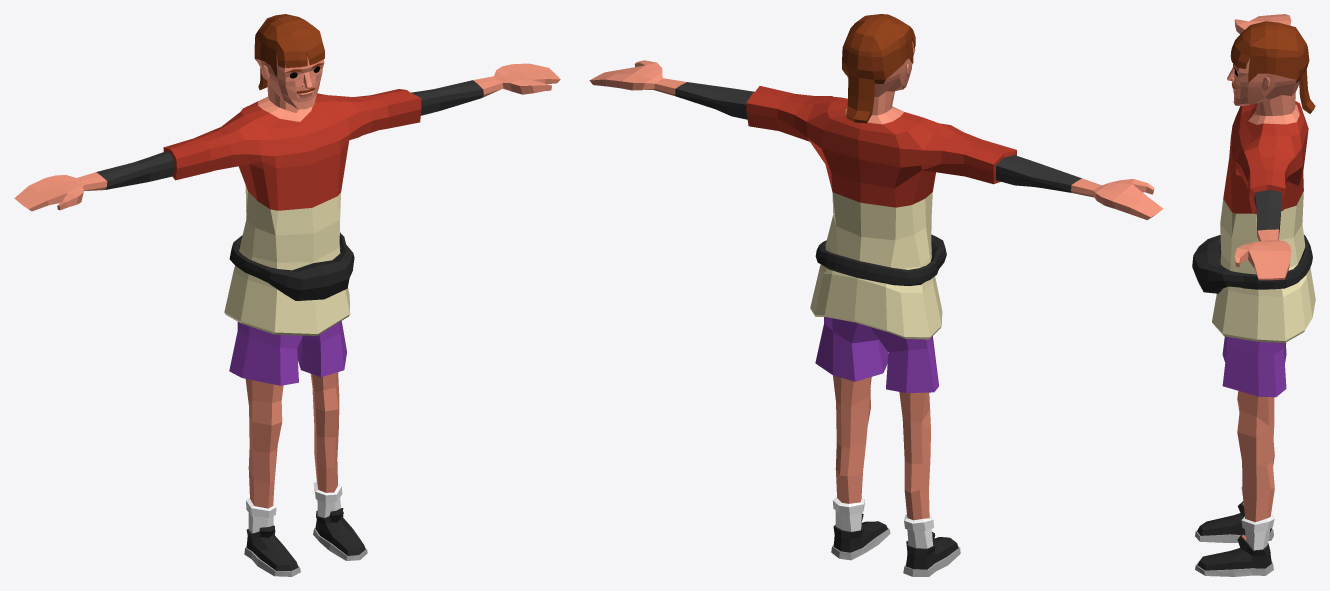
File: Eshay_02.fbx
The picture shows the model from 3 angles, left to right: view 1: azimuth 30°, elevation 25°; view 2: azimuth 150°, elevation 25°; view 3: azimuth 270°, elevation 25°; orthographic projection. The views are drawn at different scales.
Visible parts, largest first — view 1: Eshay_02; view 2: Eshay_02; view 3: Eshay_02.
Part boxes in pixels (left/top/right/bottom): Eshay_02: left=14, top=14, right=560, bottom=576; Eshay_02: left=589, top=14, right=1162, bottom=576; Eshay_02: left=1192, top=14, right=1315, bottom=576.
Size of the model in its own units: 5.2 by 4.85 by 1.03.
